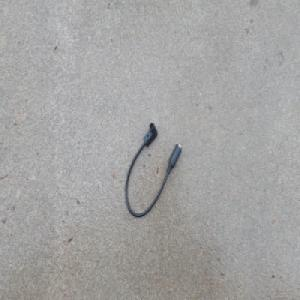Wire: (124, 120, 182, 218)
